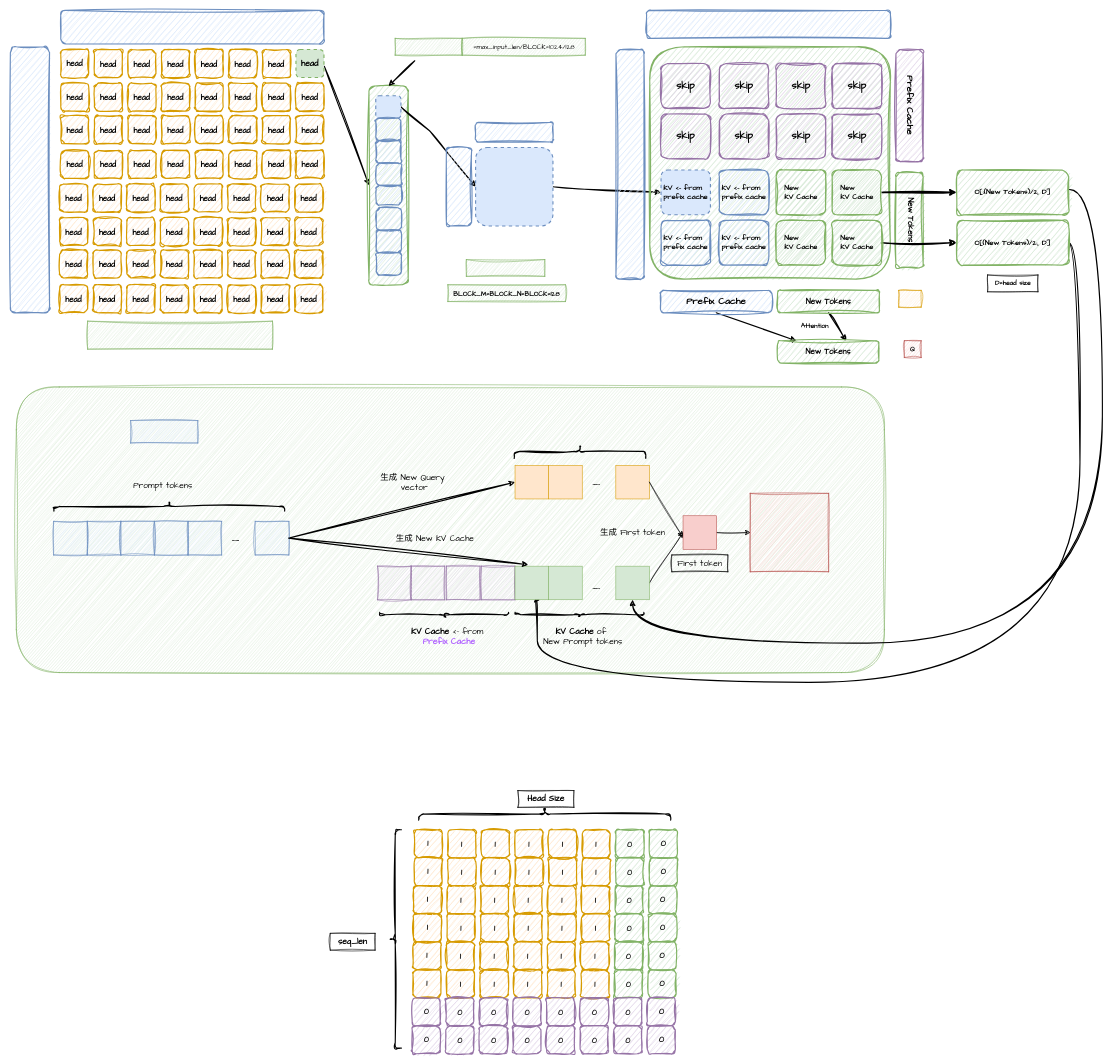
The diagram is 1113 pixels wide and 1064 high, and some of its shapes have lost their labels. Each missing label, with the box of its shape:
Bacth=8: (10, 46, 50, 313)
BLOCK_M =128: (446, 147, 472, 226)
BLOCK_N=128: (474, 122, 553, 142)
Grid=(batch, heads, max_input_len/BLOCK) (8,8,1024/128=8): (87, 321, 272, 349)
Heads=8: (60, 10, 324, 44)
K/V: (898, 290, 921, 307)
K/V seq_len Tile_K/V=BLOCK_N=128: (646, 10, 891, 39)
max_input_len=1024: (466, 259, 545, 276)
NUM_BLOCKS=8: (395, 38, 462, 55)
Prefill阶段: (130, 420, 198, 443)
Q seq_len Tile_Q=BLOCK_M=128: (615, 49, 644, 279)
Query vector of New Prompt tokens: (513, 444, 646, 459)
Tile 128x128: (475, 147, 553, 226)
进入 Generate 阶段: (750, 493, 829, 572)
